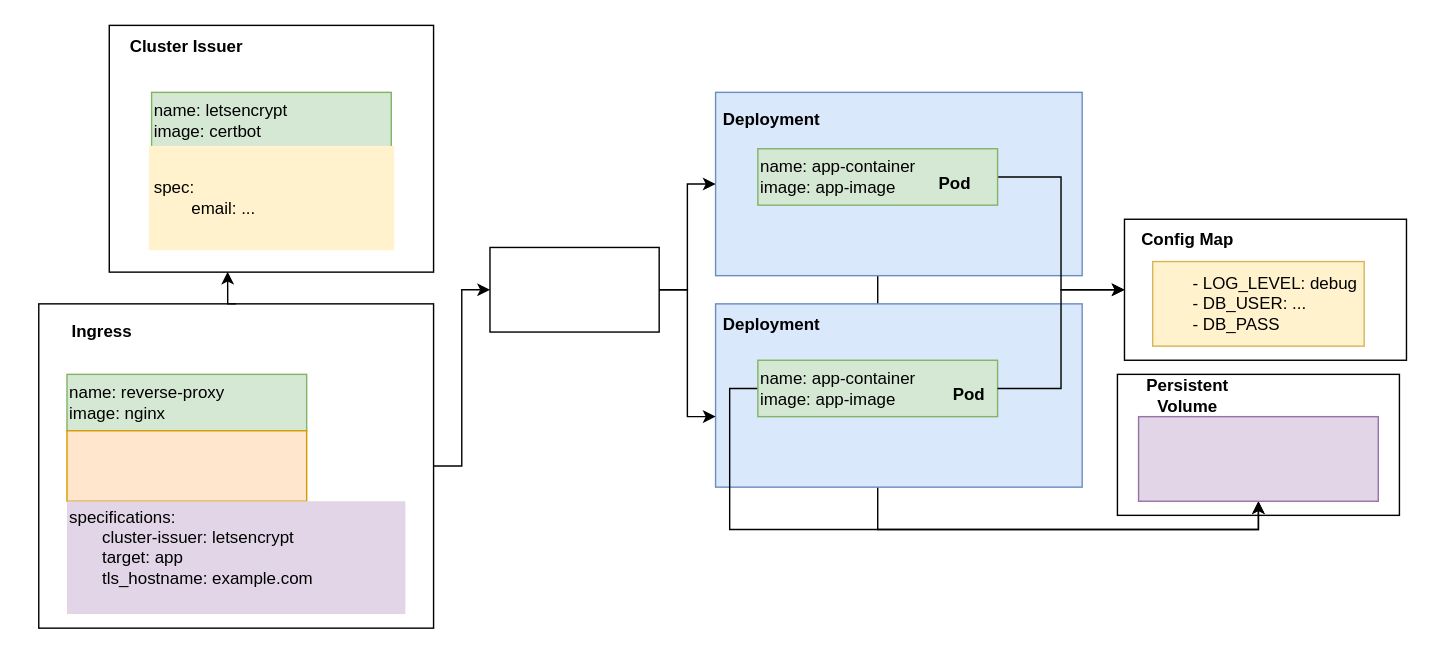
Image size: 1431x653. Some labels were removed from this diagram. Each missing label, with the centre of its shape:
"ports: - 443:443 - 80: 80" belongs at point (186, 465).
"Service" belongs at point (574, 289).
"volumes: - ./data/:/app/data" belongs at point (1257, 458).
